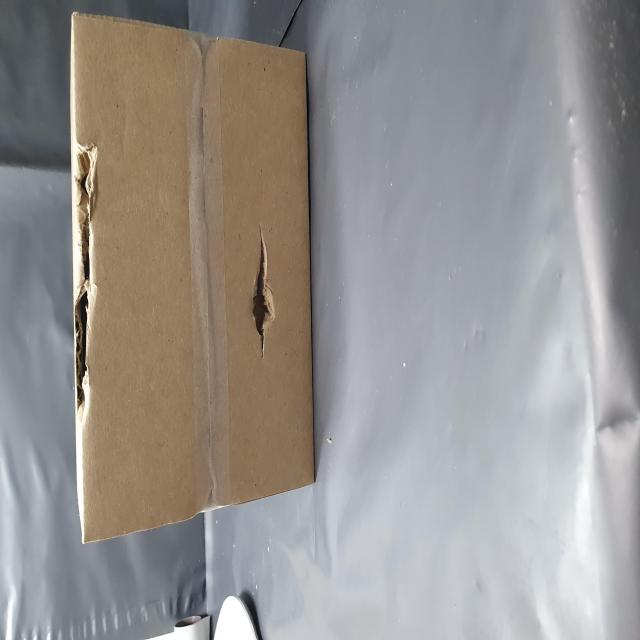damaged: (128, 124, 283, 174), (159, 435, 228, 489)
